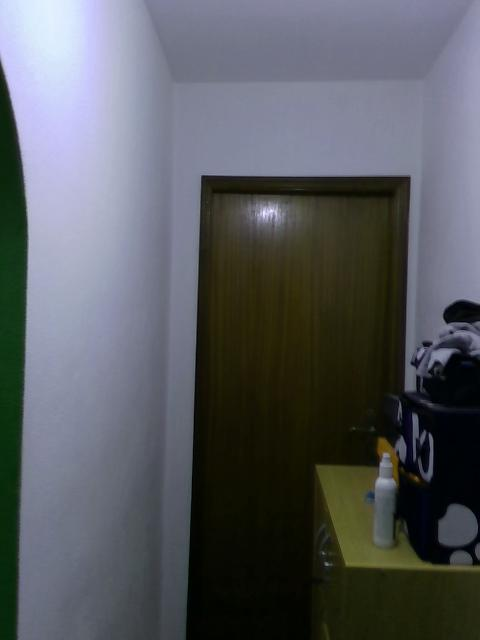closed_door: (183, 175, 410, 639)
